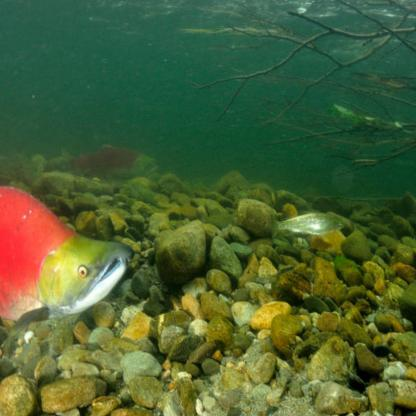sockeye: (0, 171, 123, 334)
